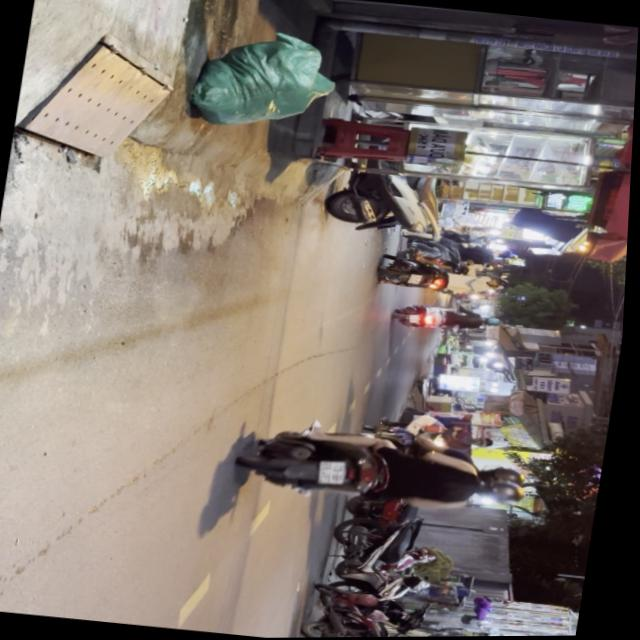helmet: (481, 480, 530, 508), (484, 466, 531, 491)
licenseplate: (237, 416, 541, 523)
nohelmet: (323, 460, 352, 486)
